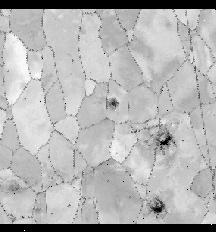good_void: (144, 121, 179, 156), (143, 193, 169, 220), (0, 178, 31, 199), (107, 93, 123, 112), (63, 197, 73, 213), (125, 191, 135, 204), (102, 175, 113, 186), (183, 160, 191, 170), (69, 54, 76, 65), (180, 136, 185, 143)
